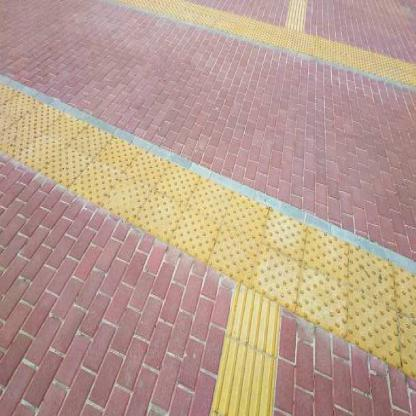podotacti: (0, 81, 415, 416), (115, 0, 414, 85)
